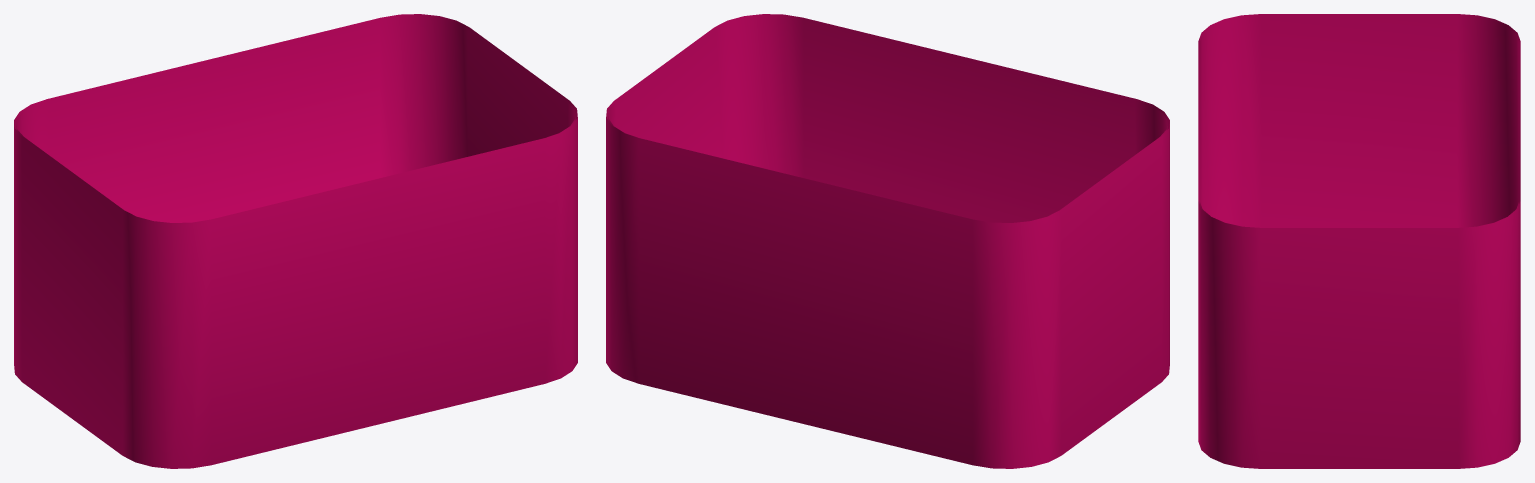
File: Strainer_Plane_Lod.fbx
3 renders of one model, left to right at view 1: azimuth 30°, elevation 25°; view 2: azimuth 150°, elevation 25°; view 3: azimuth 270°, elevation 25°, orthographic. The views are drawn at different scales.
Visible parts, largest first — view 1: Strainer_Plane_Lod; view 2: Strainer_Plane_Lod; view 3: Strainer_Plane_Lod.
Part boxes in pixels (x1,y1,x2,y2): Strainer_Plane_Lod: (14,14,577,468); Strainer_Plane_Lod: (606,14,1169,468); Strainer_Plane_Lod: (1198,14,1520,468).
Size of the model in its own units: 27.63 by 14.53 by 17.59.
